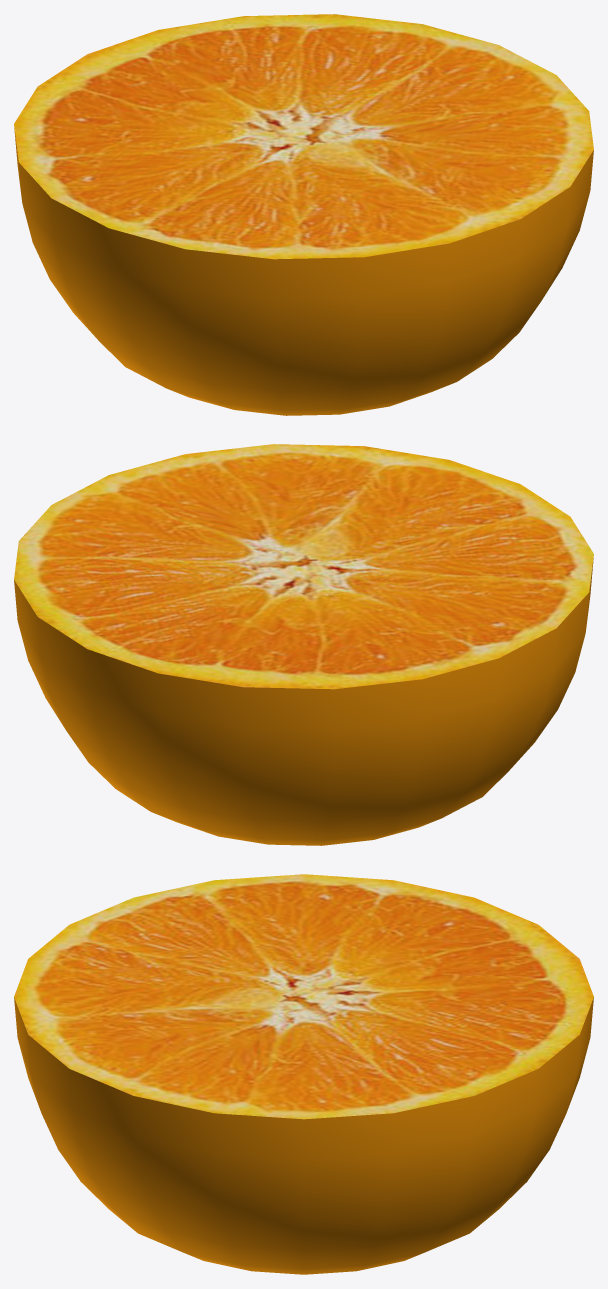
File: orange_bottom.fbx
The picture shows the model from 3 angles, top to bottom: view 1: azimuth 30°, elevation 25°; view 2: azimuth 150°, elevation 25°; view 3: azimuth 270°, elevation 25°; orthographic projection.
Visible parts, largest first — view 1: orange_bottom; view 2: orange_bottom; view 3: orange_bottom.
Part boxes in pixels (x1,y1,x2,y2): orange_bottom: (14, 14, 593, 415); orange_bottom: (14, 444, 593, 845); orange_bottom: (14, 874, 593, 1274).
Bounding box in the file's own units: 4 × 1.82 × 4.
1 material, 1 textured.
